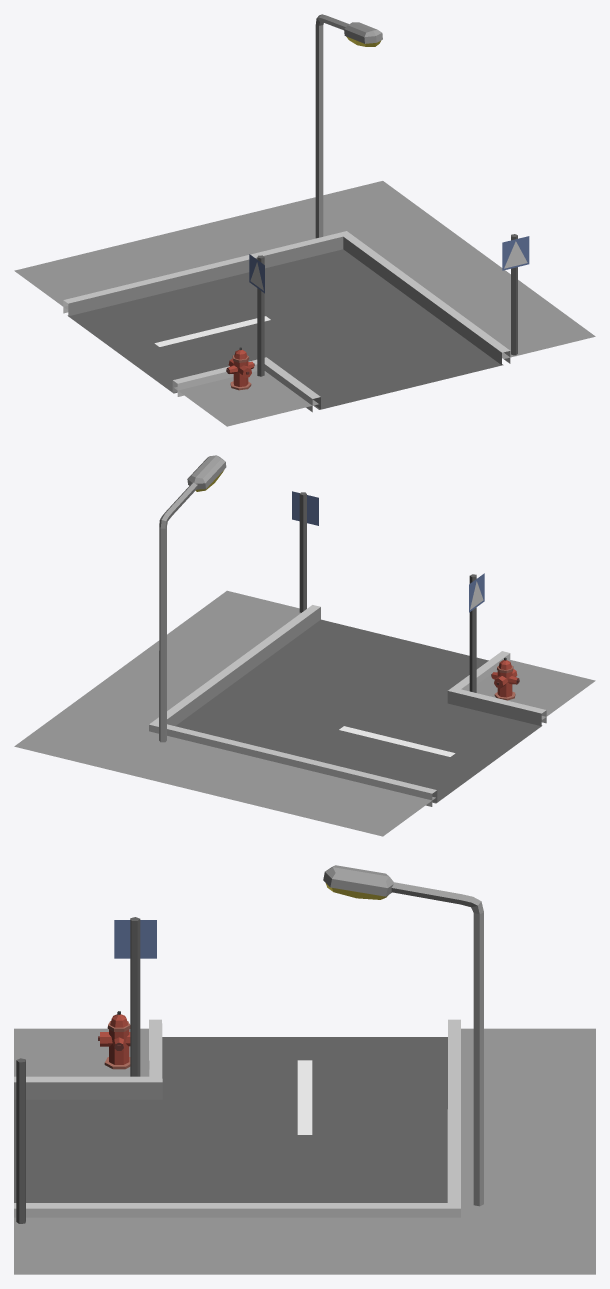
Rendered from road_tile_1x1_011.glb.
3 views of the same model, one above another, from view 1: azimuth 30°, elevation 25°; view 2: azimuth 150°, elevation 25°; view 3: azimuth 270°, elevation 25° (orthographic). The views are drawn at different scales.
Visible parts, largest first — view 1: road_tile_1x1_011; view 2: road_tile_1x1_011; view 3: road_tile_1x1_011.
Boxes of the visible parts, x1,y1,x2,y2 form: road_tile_1x1_011: (14,14,595,426); road_tile_1x1_011: (14,455,595,836); road_tile_1x1_011: (14,865,595,1274).
Bounding box in the file's own units: 8 × 5.25 × 8.
Materials: 1 (1 with a texture image).
